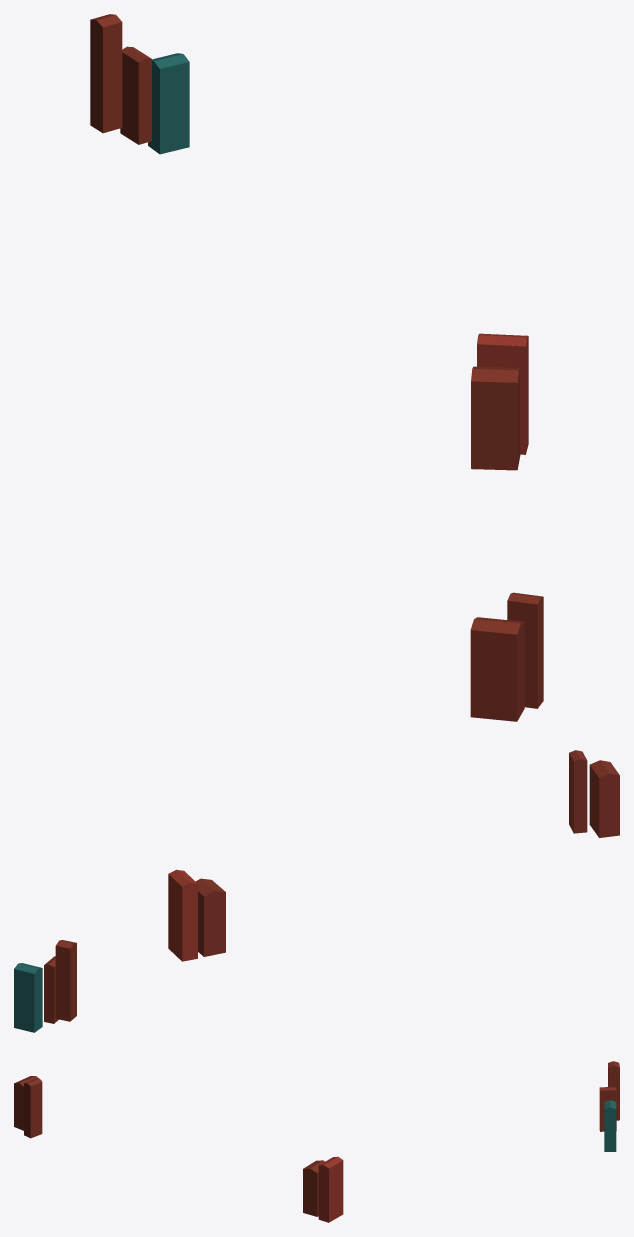
The model's file is near-15-27368-14878.7c69b8ed.glb.
3 renders of one model, top to bottom at view 1: azimuth 30°, elevation 25°; view 2: azimuth 150°, elevation 25°; view 3: azimuth 270°, elevation 25°, orthographic. The views are drawn at different scales.
Size of the model in its own units: 59.34 by 40.01 by 175.
